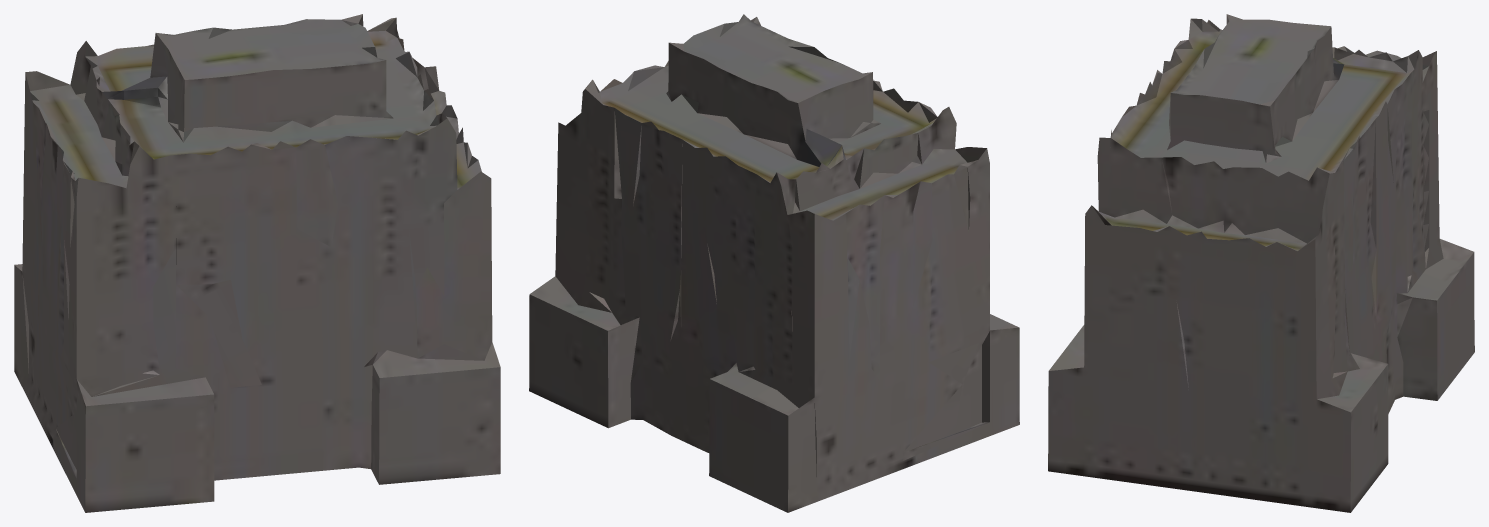
Rendered from t_-1_6.coat.glb.
3 views of the same model, side by side, from view 1: azimuth 30°, elevation 25°; view 2: azimuth 150°, elevation 25°; view 3: azimuth 270°, elevation 25° (orthographic). The views are drawn at different scales.
Visible parts, largest first — view 1: far; view 2: far; view 3: far.
Boxes of the visible parts, bbox=[...] form: far: bbox=[14, 14, 500, 512]; far: bbox=[529, 14, 1019, 512]; far: bbox=[1048, 14, 1474, 512].
Bounding box in the file's own units: 45.97 × 37.6 × 40.87.
1 material, 1 textured.
